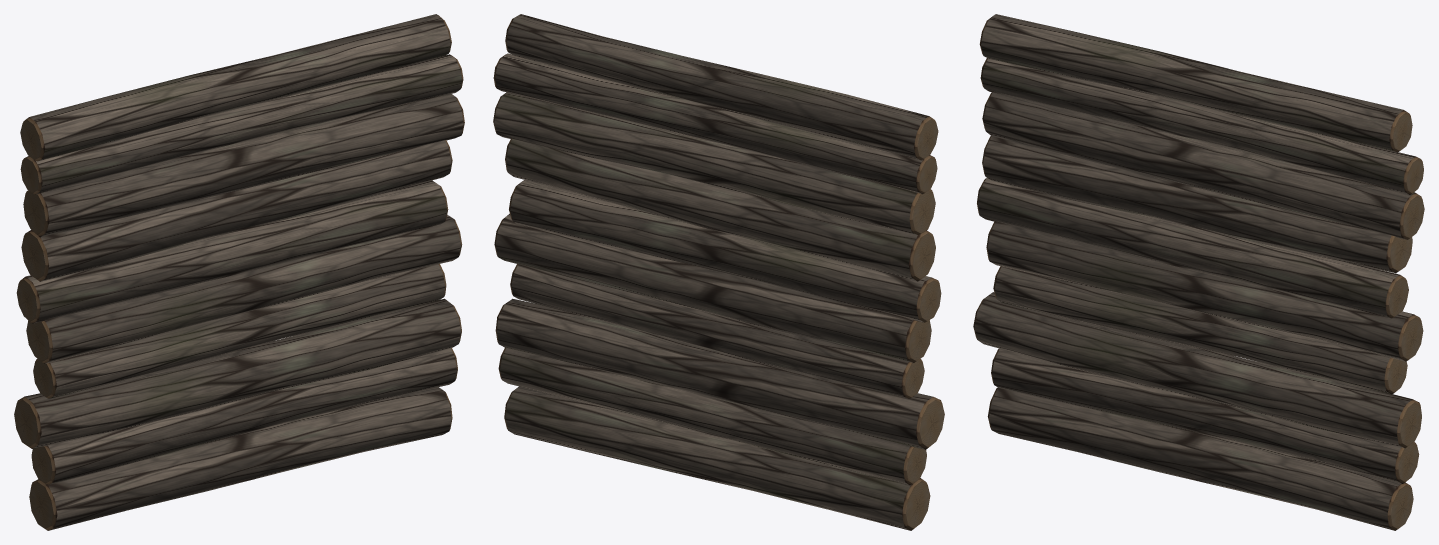
The model's file is S7U_Rev_Logs_2m.fbx.
3 renders of one model, left to right at view 1: azimuth 30°, elevation 25°; view 2: azimuth 150°, elevation 25°; view 3: azimuth 330°, elevation 25°, orthographic.
Visible parts, largest first — view 1: S7U_Rev_Logs_2m; view 2: S7U_Rev_Logs_2m; view 3: S7U_Rev_Logs_2m.
Part boxes in pixels (bbox=[...]): S7U_Rev_Logs_2m: bbox=[14, 14, 464, 530]; S7U_Rev_Logs_2m: bbox=[493, 14, 944, 530]; S7U_Rev_Logs_2m: bbox=[973, 14, 1424, 530].
Bounding box in the file's own units: 2.22 × 2.05 × 0.2552.
